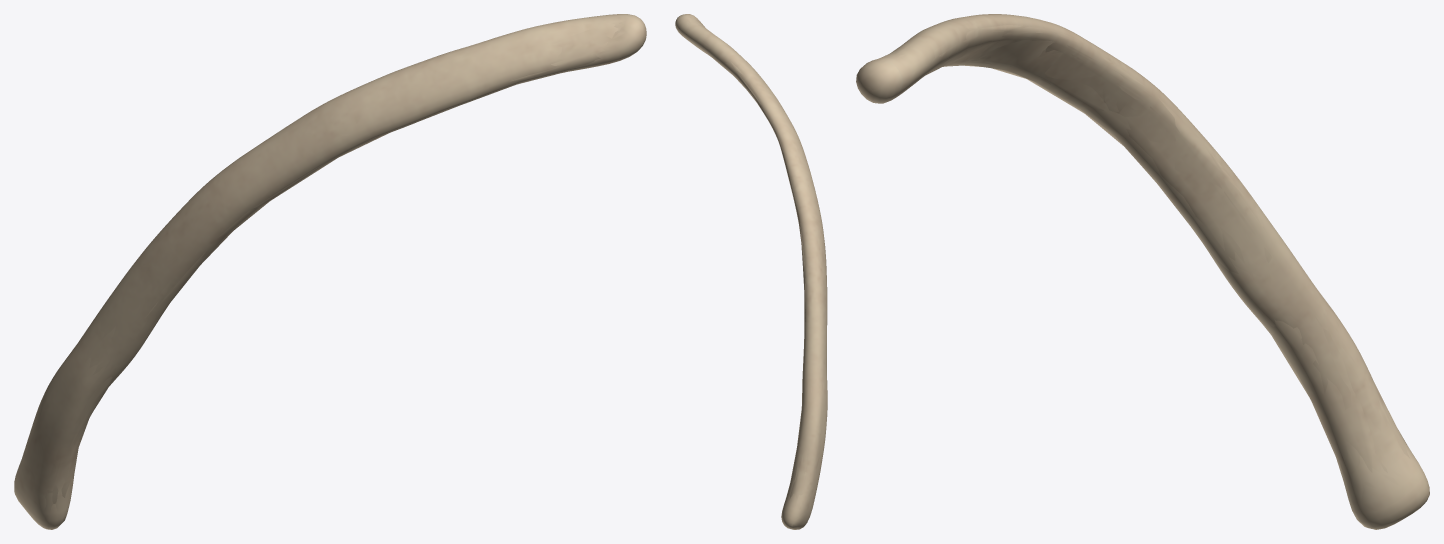
File: Rib R12.fbx
3 views of the same model, side by side, from view 1: azimuth 30°, elevation 25°; view 2: azimuth 150°, elevation 25°; view 3: azimuth 270°, elevation 25° (orthographic). The views are drawn at different scales.
Parts seen in each view (by area): view 1: Rib R12 high, Rib R12, Rib R12 low; view 2: Rib R12 high, Rib R12, Rib R12 low; view 3: Rib R12, Rib R12 low, Rib R12 high.
Part boxes in pixels (x1,y1,x2,y2): Rib R12 high: (14, 14, 646, 528); Rib R12: (14, 14, 646, 529); Rib R12 low: (47, 22, 618, 503); Rib R12 high: (676, 14, 827, 529); Rib R12: (675, 14, 827, 529); Rib R12 low: (696, 20, 820, 500); Rib R12: (856, 15, 1429, 529); Rib R12 low: (885, 22, 1410, 478); Rib R12 high: (856, 14, 1429, 529).
Size of the model in its own units: 12.55 by 16.38 by 12.32.
